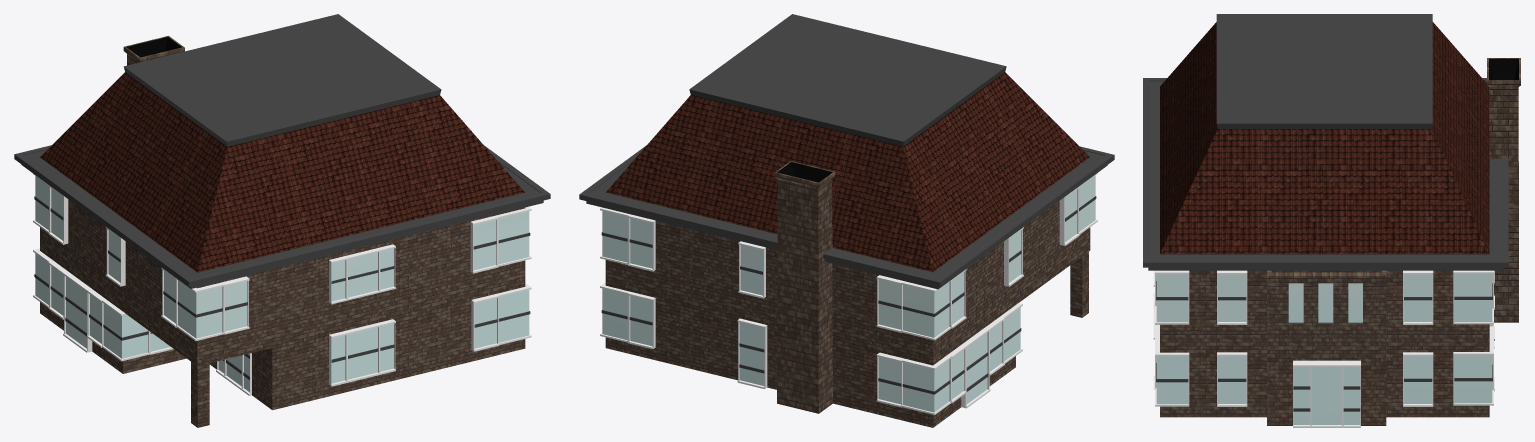
Rendered from Greide 15.fbx.
3 views of the same model, side by side, from view 1: azimuth 30°, elevation 25°; view 2: azimuth 150°, elevation 25°; view 3: azimuth 270°, elevation 25° (orthographic). The views are drawn at different scales.
Parts seen in each view (by area): view 1: polySurface92; view 2: polySurface92; view 3: polySurface92.
Part boxes in pixels (x1,y1,x2,y2): polySurface92: (14, 14, 550, 427); polySurface92: (579, 14, 1114, 427); polySurface92: (1143, 14, 1520, 427).
Size of the model in its own units: 14.8 by 9.66 by 12.49.
1 material, 1 textured.
